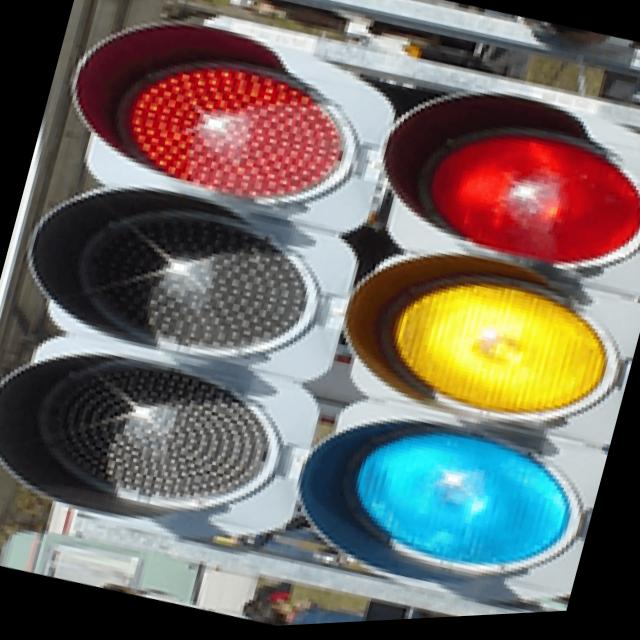red_light: (78, 0, 433, 259), (386, 0, 640, 310)
yellow_light: (311, 197, 640, 478)
